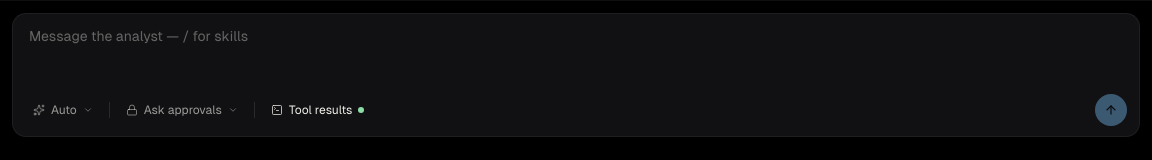
Test: Composer › derives permission-mode options from the active driver capabilities, not a hardcoded literal
Step 1. Click the button "Ask approvals" → (182, 110), box [118, 98, 246, 122]
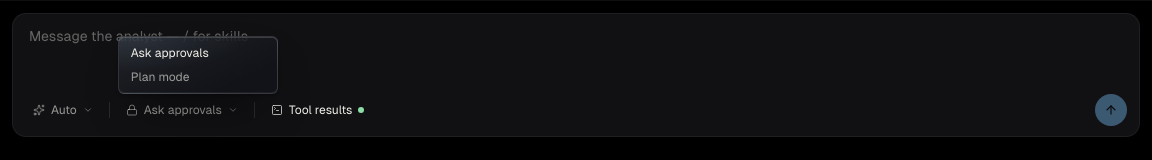
Expected: the menu items read "Ask approvals", "Plan mode", in this order, [123, 41, 273, 65]; [123, 65, 273, 89]
